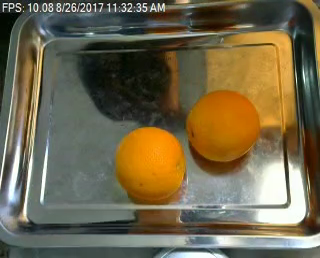Orange: (187, 89, 261, 163), (115, 125, 185, 202)
